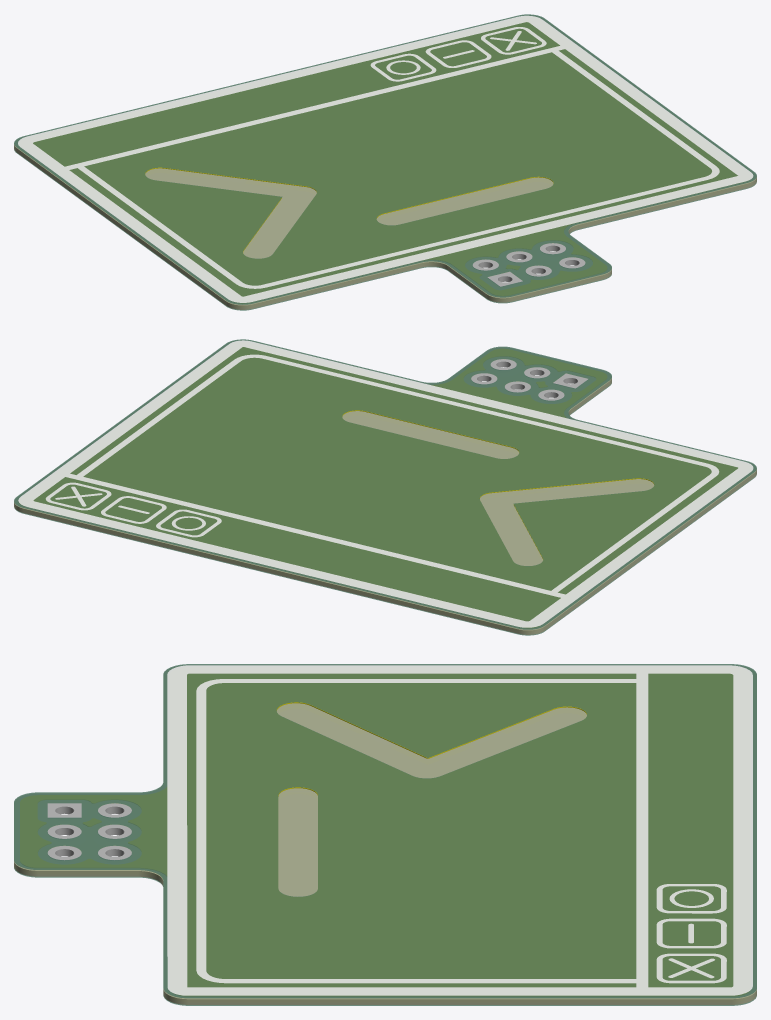
Rendered from offzone-2025-terminal-add-on.glb.
3 views of the same model, one above another, from view 1: azimuth 30°, elevation 25°; view 2: azimuth 150°, elevation 25°; view 3: azimuth 270°, elevation 25° (orthographic). The views are drawn at different scales.
Visible parts, largest first — view 1: =>[0:1:1:6], =>[0:1:1:2], =>[0:1:1:4], =>[0:1:1:8]; view 2: =>[0:1:1:6], =>[0:1:1:2], =>[0:1:1:4], =>[0:1:1:8]; view 3: =>[0:1:1:6], =>[0:1:1:2], =>[0:1:1:4], =>[0:1:1:8].
Part boxes in pixels (<box>): =>[0:1:1:6]: <box>14,14,756,310</box>; =>[0:1:1:2]: <box>33,22,736,295</box>; =>[0:1:1:4]: <box>18,15,753,302</box>; =>[0:1:1:8]: <box>14,15,756,309</box>; =>[0:1:1:6]: <box>14,339,756,635</box>; =>[0:1:1:2]: <box>34,347,737,627</box>; =>[0:1:1:4]: <box>18,340,753,627</box>; =>[0:1:1:8]: <box>14,341,756,634</box>; =>[0:1:1:6]: <box>14,664,756,1005</box>; =>[0:1:1:2]: <box>20,674,746,995</box>; =>[0:1:1:4]: <box>167,665,752,995</box>; =>[0:1:1:8]: <box>14,666,756,1004</box>.
Bounding box in the file's own units: 0.04 × 0.000471 × 0.0376.
Materials: 4 (4 with a texture image).
